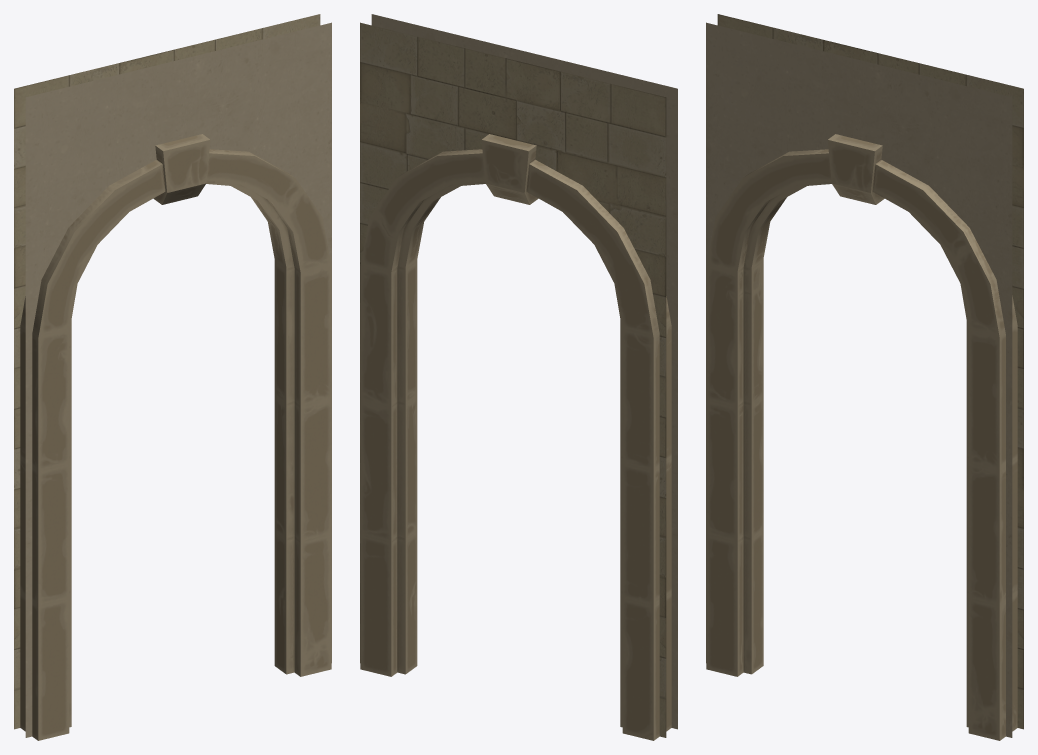
File: ARC0510035.fbx
3 views of the same model, side by side, from view 1: azimuth 30°, elevation 25°; view 2: azimuth 150°, elevation 25°; view 3: azimuth 330°, elevation 25° (orthographic).
Visible parts, largest first — view 1: smARC0510035; view 2: smARC0510035; view 3: smARC0510035.
Part boxes in pixels (<box>): smARC0510035: <box>14,14,331,740</box>; smARC0510035: <box>360,14,677,740</box>; smARC0510035: <box>706,14,1023,740</box>.
Size of the model in its own units: 300 by 600 by 46.7.
1 material, 1 textured.
